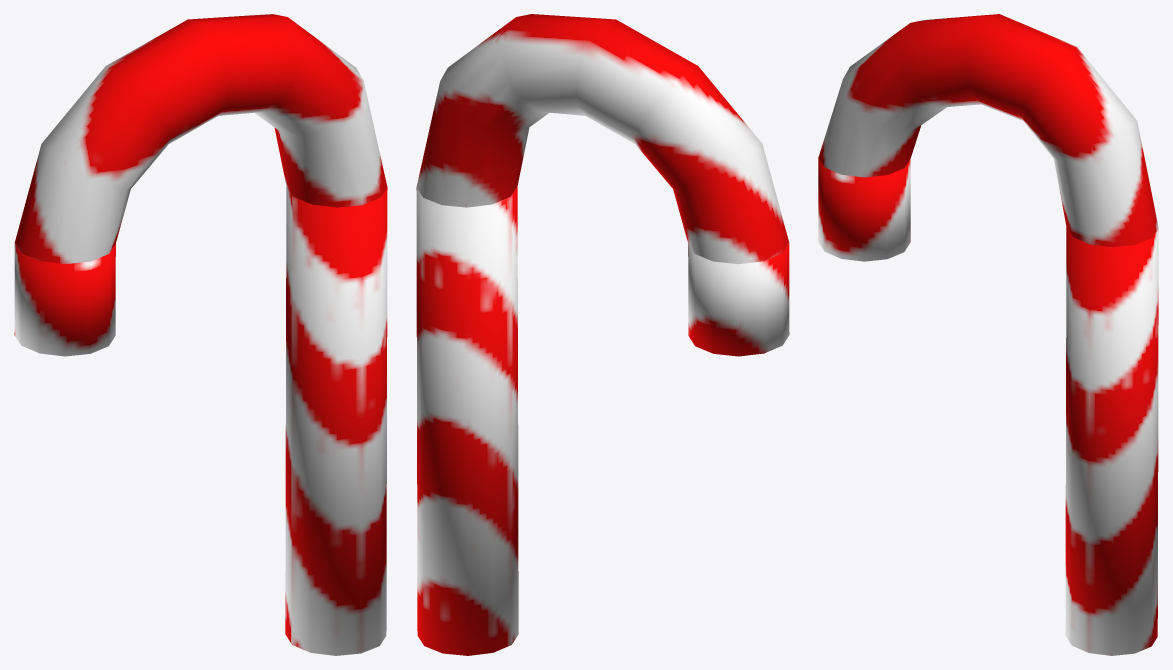
The model's file is CarameloNavideño.fbx.
3 views of the same model, side by side, from view 1: azimuth 30°, elevation 25°; view 2: azimuth 150°, elevation 25°; view 3: azimuth 330°, elevation 25° (orthographic). The views are drawn at different scales.
Visible parts, largest first — view 1: BezierCurve; view 2: BezierCurve; view 3: BezierCurve.
Part boxes in pixels (x1,y1,x2,y2): BezierCurve: (14,14,387,655); BezierCurve: (416,14,789,655); BezierCurve: (818,14,1158,655).
Bounding box in the file's own units: 1.64 × 2.82 × 0.4.
Materials: 1 (1 with a texture image).
